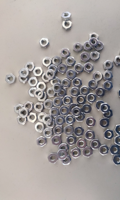nut: (85, 117, 96, 128), (61, 155, 72, 166), (48, 153, 59, 164), (39, 38, 50, 49), (62, 20, 73, 31), (5, 74, 16, 85), (100, 103, 111, 114), (43, 99, 54, 110), (59, 106, 70, 117), (65, 115, 76, 126), (53, 125, 64, 136), (43, 128, 54, 139), (34, 122, 45, 133), (34, 102, 45, 113), (74, 126, 84, 138), (72, 106, 82, 118), (42, 115, 54, 125), (99, 145, 109, 156), (90, 140, 101, 150), (83, 147, 93, 158), (85, 130, 95, 141), (100, 118, 110, 129), (77, 139, 87, 150), (71, 148, 81, 159), (57, 150, 68, 160), (58, 144, 69, 154), (66, 135, 76, 146), (104, 60, 114, 71), (84, 63, 94, 74), (103, 71, 114, 81), (96, 87, 106, 98), (88, 79, 98, 90), (73, 42, 83, 53), (60, 48, 71, 58), (72, 78, 83, 88), (87, 93, 97, 104), (70, 87, 80, 98), (46, 69, 56, 80), (52, 83, 63, 93), (33, 67, 44, 77), (36, 82, 47, 92), (76, 95, 86, 106), (53, 97, 64, 107), (55, 116, 66, 126), (46, 119, 56, 130), (52, 135, 62, 146), (37, 136, 47, 147), (59, 106, 70, 116), (37, 112, 47, 123), (19, 107, 29, 118), (110, 145, 120, 155), (104, 130, 114, 140), (103, 81, 113, 91), (93, 72, 103, 82), (94, 41, 104, 51), (81, 52, 91, 62), (66, 57, 76, 67), (52, 56, 62, 66), (66, 70, 76, 80), (74, 64, 84, 74), (80, 86, 90, 96), (28, 77, 38, 87), (25, 62, 35, 72), (19, 68, 29, 78), (34, 89, 44, 99), (82, 104, 92, 114), (62, 96, 72, 106), (75, 112, 85, 122), (64, 126, 74, 136), (24, 102, 34, 112), (27, 113, 37, 123), (17, 115, 27, 125), (50, 107, 60, 117), (62, 78, 71, 89), (62, 12, 72, 21), (89, 38, 99, 47), (91, 51, 100, 61), (58, 64, 67, 74), (43, 57, 52, 67), (51, 77, 61, 86), (47, 88, 56, 98), (42, 73, 51, 83), (28, 88, 38, 97), (19, 74, 28, 84), (38, 92, 47, 102), (58, 88, 67, 98), (104, 109, 113, 119), (95, 101, 104, 111), (14, 104, 23, 114), (90, 33, 99, 42), (69, 104, 78, 113), (48, 65, 58, 73), (113, 155, 120, 166), (84, 42, 92, 51), (114, 56, 120, 66), (115, 125, 120, 135), (115, 136, 120, 146), (118, 88, 120, 99)
